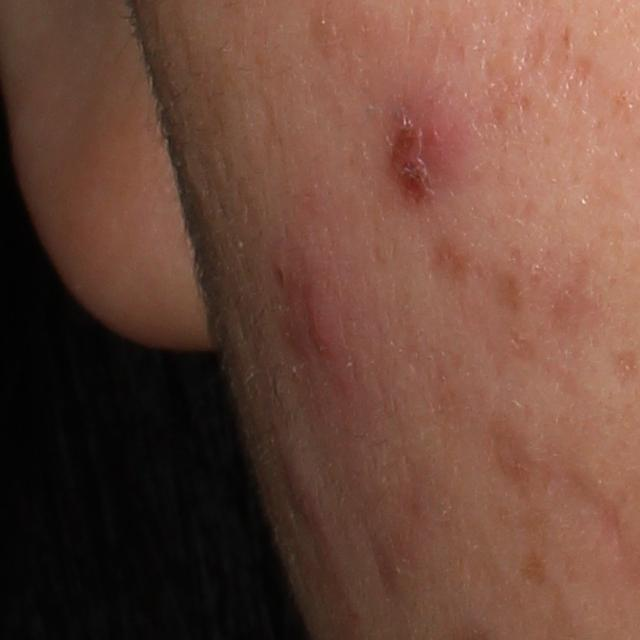atrophic_scar: (520, 25, 546, 72), (570, 53, 594, 83)
papule: (384, 96, 477, 195), (279, 453, 328, 532), (305, 291, 343, 358)
